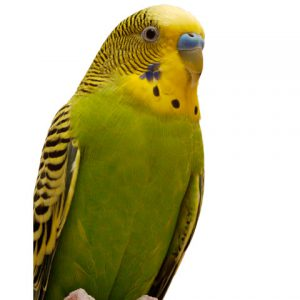budgie: (33, 3, 206, 300)
